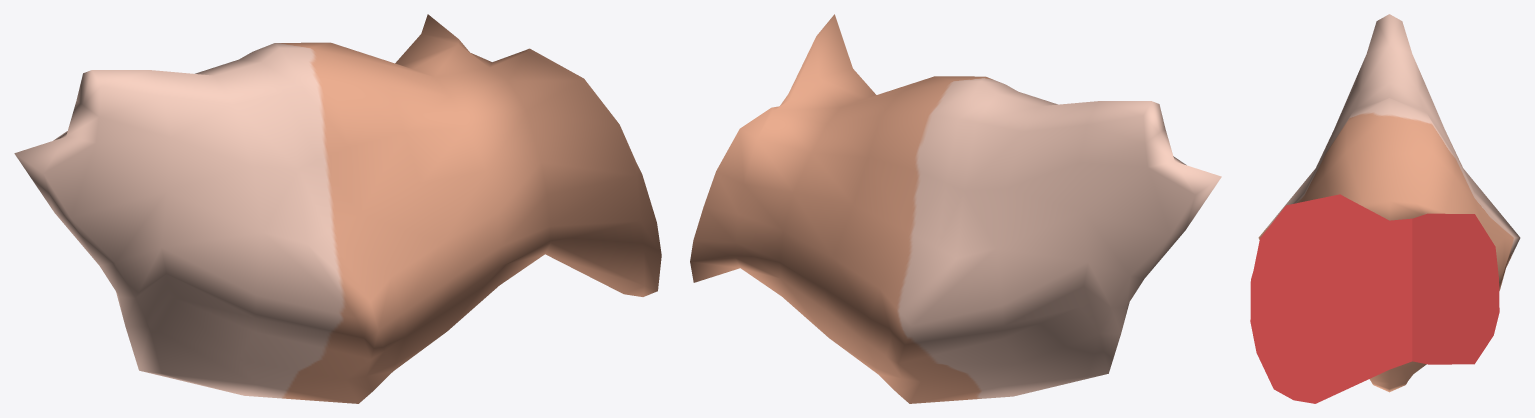
The model's file is tail.obj.
3 views of the same model, side by side, from view 1: azimuth 30°, elevation 25°; view 2: azimuth 150°, elevation 25°; view 3: azimuth 270°, elevation 25° (orthographic). The views are drawn at different scales.
Parts seen in each view (by area): view 1: Fox_Final_Low.005_Fox_Final_Low.006; view 2: Fox_Final_Low.005_Fox_Final_Low.006; view 3: Fox_Final_Low.005_Fox_Final_Low.006.
Boxes of the visible parts, x1=… form: Fox_Final_Low.005_Fox_Final_Low.006: x1=14, y1=14, x2=661, y2=403; Fox_Final_Low.005_Fox_Final_Low.006: x1=690, y1=14, x2=1221, y2=403; Fox_Final_Low.005_Fox_Final_Low.006: x1=1250, y1=14, x2=1520, y2=403.
Bounding box in the file's own units: 2.21 × 1.48 × 1.27.
